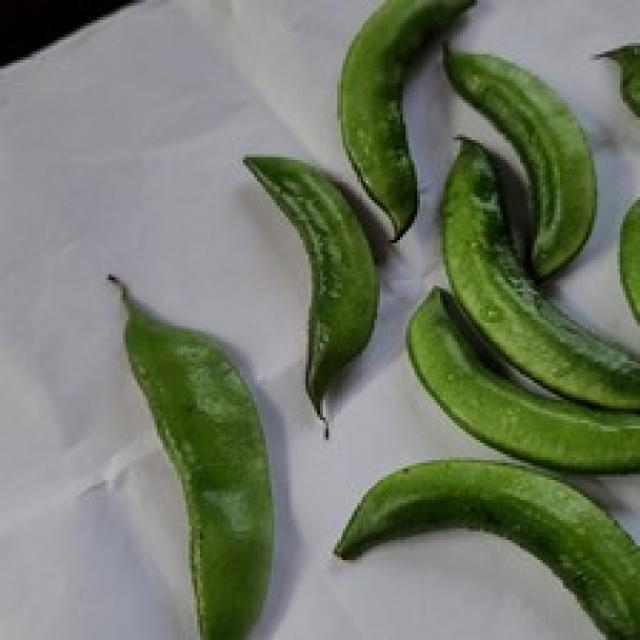Bean: (103, 272, 274, 637), (437, 132, 637, 414), (332, 454, 637, 637), (403, 283, 637, 474), (240, 152, 377, 437), (440, 40, 597, 280), (334, 0, 474, 243)
